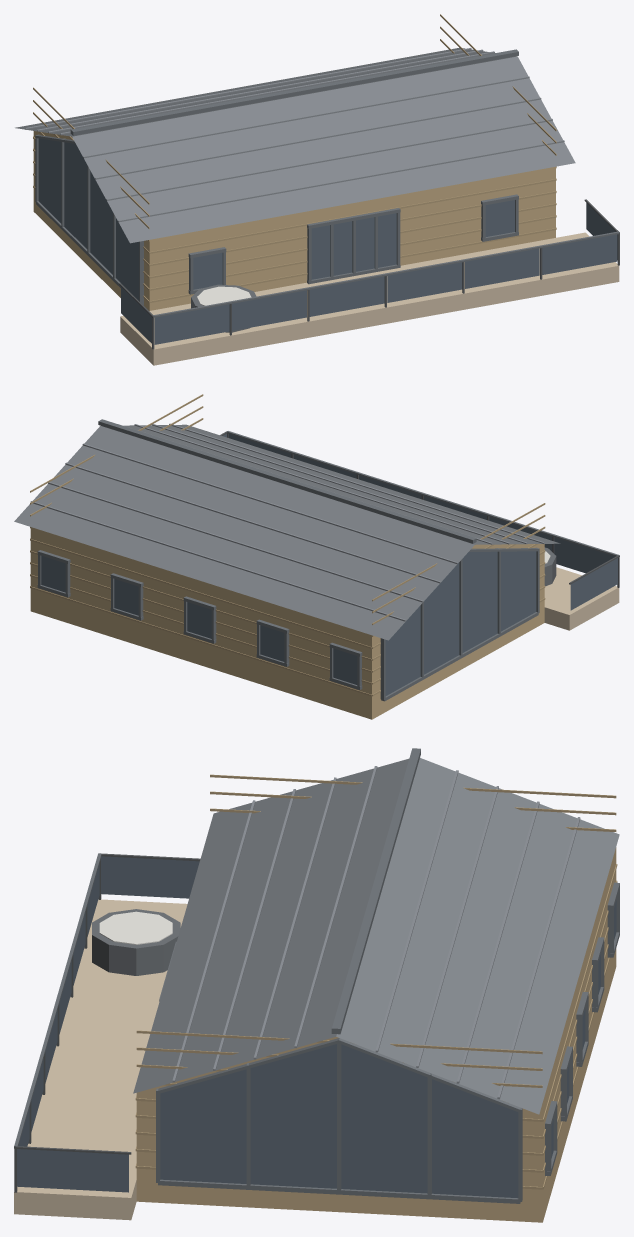
The picture shows the model from 3 angles, top to bottom: view 1: azimuth 30°, elevation 25°; view 2: azimuth 150°, elevation 25°; view 3: azimuth 270°, elevation 25°; orthographic projection. The views are drawn at different scales.
Visible parts, largest first — view 1: slate, door_wood, larch, slate_dk, slate_lt, window_glass_015, door_wood_p, window_glass_001, window_glass_003, window_glass_004, window_glass_006, window_glass_002 (+11 smaller); view 2: slate, door_wood, window_glass_015, slate_dk, slate_lt, door_wood_p, larch, window_glass_007, window_glass_001, window_glass_017, window_glass_019, window_glass_018 (+2 smaller); view 3: slate, window_glass_016, larch, door_wood, slate_dk, slate_lt, door_wood_p, window_glass_008, window_glass_007, band_dark, string, pipe.
Part boxes in pixels (x1,y1,x2,y2): slate: [15, 47, 575, 243]; door_wood: [33, 131, 555, 310]; larch: [120, 232, 619, 365]; slate_dk: [35, 49, 619, 317]; slate_lt: [25, 48, 564, 222]; window_glass_015: [38, 138, 138, 300]; door_wood_p: [33, 14, 556, 302]; window_glass_001: [154, 304, 229, 344]; window_glass_003: [309, 276, 384, 316]; window_glass_004: [387, 262, 462, 302]; window_glass_006: [542, 234, 617, 274]; window_glass_002: [232, 290, 306, 330]; slate: [14, 424, 560, 640]; door_wood: [30, 527, 544, 719]; window_glass_015: [385, 551, 536, 695]; slate_dk: [37, 419, 618, 701]; slate_lt: [30, 423, 544, 621]; door_wood_p: [30, 394, 545, 696]; larch: [544, 567, 619, 630]; window_glass_007: [570, 558, 617, 610]; window_glass_001: [554, 537, 615, 573]; window_glass_017: [41, 555, 65, 592]; window_glass_019: [187, 602, 211, 638]; window_glass_018: [114, 579, 138, 615]; slate: [133, 758, 619, 1114]; window_glass_016: [160, 1044, 518, 1198]; larch: [14, 899, 187, 1220]; door_wood: [136, 847, 616, 1222]; slate_dk: [14, 748, 619, 1203]; slate_lt: [172, 766, 580, 1099]; door_wood_p: [135, 774, 617, 1189]; window_glass_008: [17, 1149, 128, 1192]; window_glass_007: [101, 856, 199, 898]; band_dark: [92, 909, 180, 975]; string: [99, 911, 172, 944]; pipe: [14, 853, 200, 1192].
Bounding box in the file's own units: 15.11 × 4.39 × 12.32.
